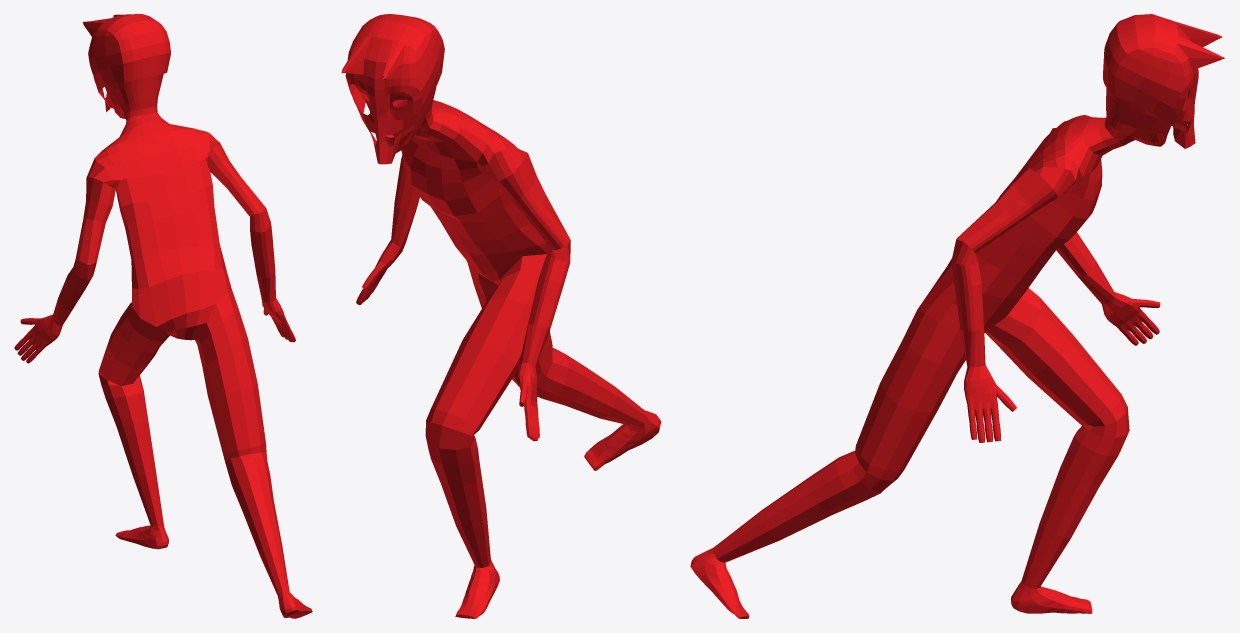
The model's file is saltoadelanteE_000093.obj.
3 views of the same model, side by side, from view 1: azimuth 30°, elevation 25°; view 2: azimuth 150°, elevation 25°; view 3: azimuth 270°, elevation 25° (orthographic). The views are drawn at different scales.
Parts seen in each view (by area): view 1: Plane.002_Plane.001; view 2: Plane.002_Plane.001; view 3: Plane.002_Plane.001.
Boxes of the visible parts, x1,y1,x2,y2 form: Plane.002_Plane.001: (14,14,312,618); Plane.002_Plane.001: (341,14,661,618); Plane.002_Plane.001: (690,14,1224,618).
Bounding box in the file's own units: 2.65 × 6 × 4.79.
